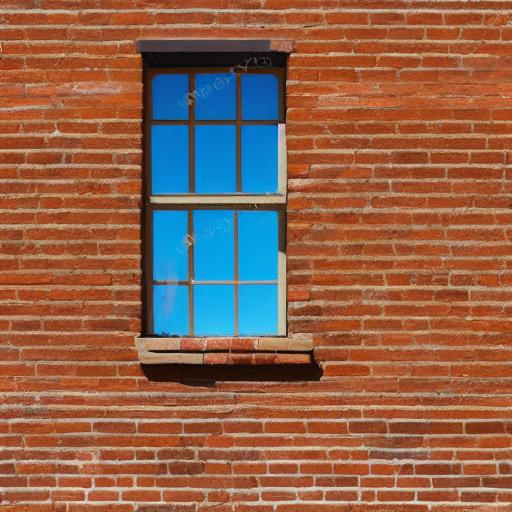Window: (130, 40, 319, 371)
